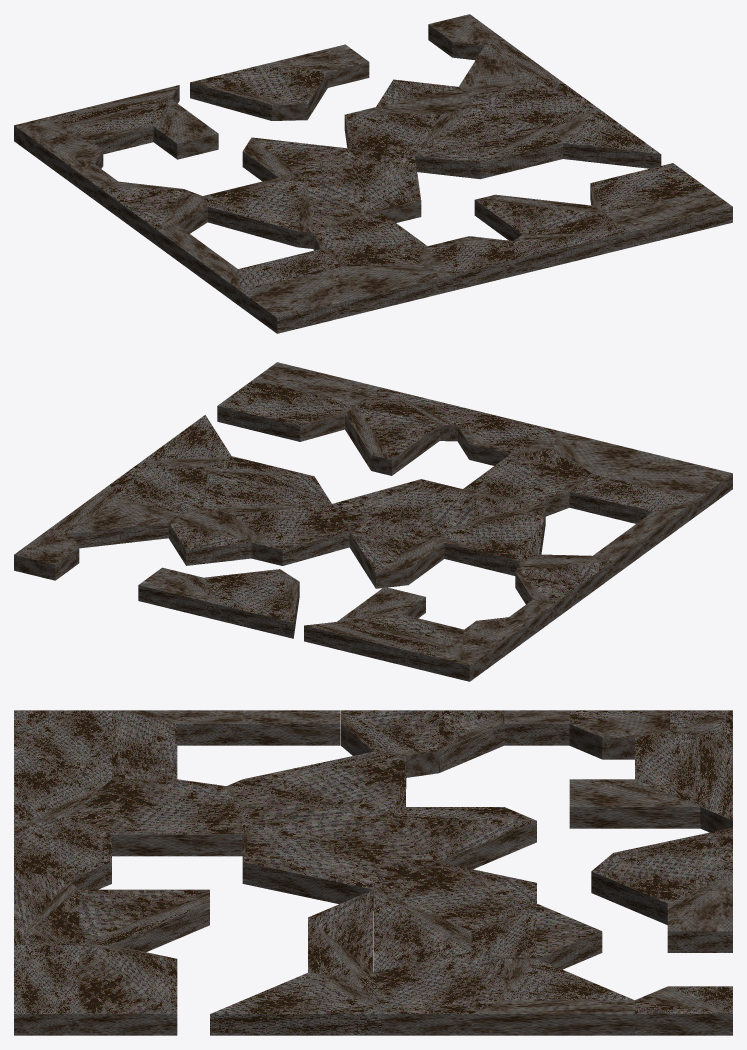
File: HUGEFLOOR-col.glb
The picture shows the model from 3 angles, top to bottom: view 1: azimuth 30°, elevation 25°; view 2: azimuth 150°, elevation 25°; view 3: azimuth 270°, elevation 25°; orthographic projection. The views are drawn at different scales.
Parts seen in each view (by area): view 1: HUGEFLOOR-col; view 2: HUGEFLOOR-col; view 3: HUGEFLOOR-col.
Part boxes in pixels (box(x1,y1,x2,y2)): HUGEFLOOR-col: box(14, 14, 732, 333); HUGEFLOOR-col: box(14, 362, 732, 681); HUGEFLOOR-col: box(14, 710, 732, 1035).
Size of the model in its own units: 30 by 1 by 30.
Materials: 1 (1 with a texture image).
